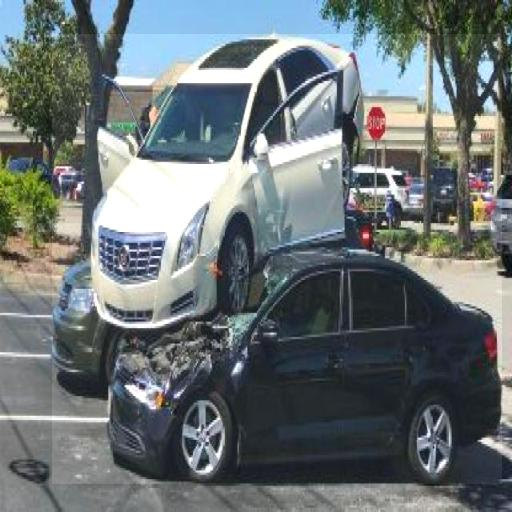小汽车撞小汽车: (52, 34, 502, 484)
